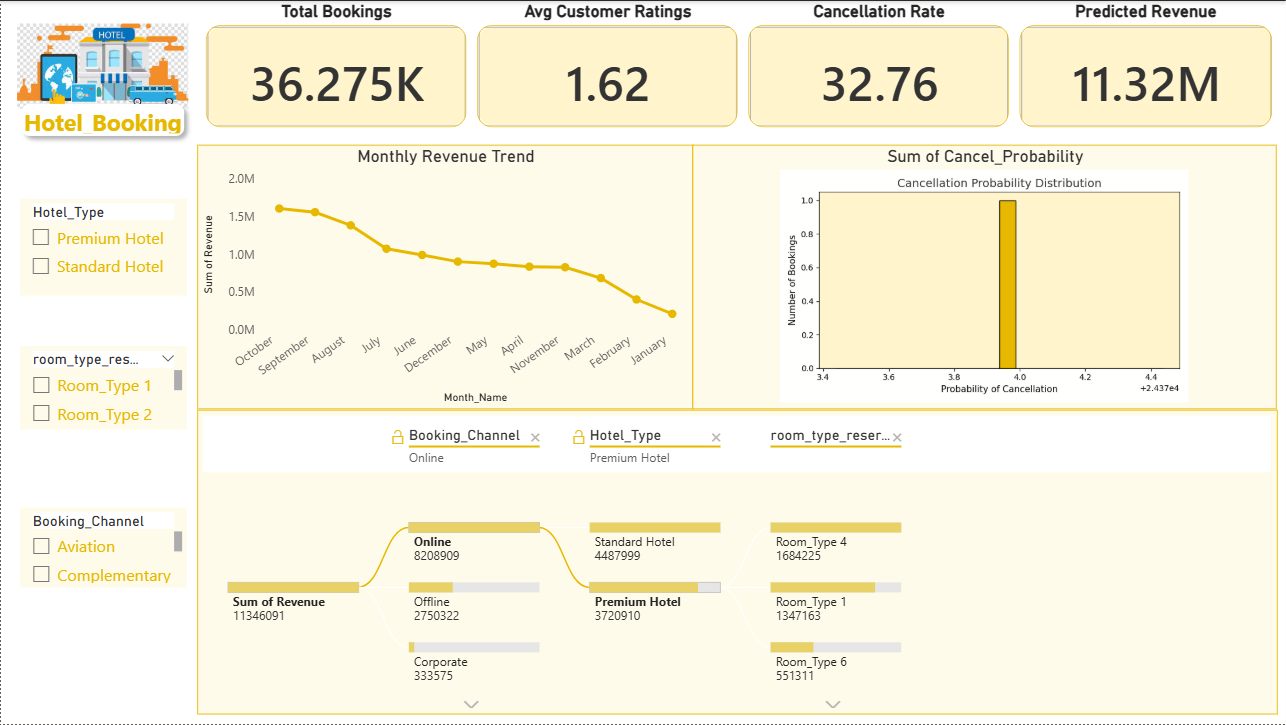

The dashboard page shown, as its layout file describes it:
{"tool":"powerbi","page":{"name":"Booking_Dashboard","canvas":[1280,720],"ordinal":0},"visuals":[{"type":"cardVisual","title":"Total Bookings","fields":{"Data":["CountNonNull(hotel_predictions (2).Booking_ID)"]},"box":[199,0,269.9,130.6],"z":0},{"type":"cardVisual","title":"Avg Customer Ratings","fields":{"Data":["Avg(hotel_predictions (2).Customer_Ratings)"]},"box":[469,0,269.9,130.6],"z":1000},{"type":"cardVisual","title":"Cancellation Rate","fields":{"Data":["cancellation_rate.Cancellation Rate"]},"box":[738.9,0,269.9,130.6],"z":2000},{"type":"cardVisual","title":"Predicted Revenue","fields":{"Data":["Sum(hotel_predictions (2).Predicted_Revenue)"]},"box":[1008.9,0,261.2,130.6],"z":3000},{"type":"slicer","fields":{"Values":["hotel_predictions (2).Hotel_Type"]},"box":[18.3,196.7,166.7,96.7],"z":4000},{"type":"slicer","fields":{"Values":["hotel_predictions (2).room_type_reserved"]},"box":[18.3,343.3,166.7,83.3],"z":5000},{"type":"slicer","fields":{"Values":["hotel_predictions (2).Booking_Channel"]},"box":[18.3,503.3,166.7,80],"z":6000},{"type":"lineChart","title":"Monthly Revenue Trend","fields":{"Category":["hotel_predictions (2).Month_Name"],"Y":["Sum(hotel_predictions (2).Revenue)"]},"box":[195,143.3,493.3,263.3],"z":7000},{"type":"pythonVisual","fields":{"Values":["Sum(hotel_predictions (2).Cancel_Probability)"]},"box":[688.3,143.3,581.7,263.3],"z":8000},{"type":"decompositionTreeVisual","fields":{"Analyze":["Sum(hotel_predictions (2).Revenue)"],"ExplainBy":["hotel_predictions (2).Booking_Channel","hotel_predictions (2).Hotel_Type","hotel_predictions (2).room_type_reserved"]},"box":[195,406.7,1075,303.3],"z":9000},{"type":"image","box":[11.7,0,180,130],"z":10000},{"type":"shape","box":[11.7,93.3,180,50],"z":11000}]}

Visuals, with their boxes in screenshot pixels (x1, y1, x2, y2), scaled from the page's 1280x720 canvas onto the 1286x725 screenshot:
"Total Bookings" cardVisual: (200, 0, 471, 132)
"Avg Customer Ratings" cardVisual: (471, 0, 742, 132)
"Cancellation Rate" cardVisual: (742, 0, 1014, 132)
"Predicted Revenue" cardVisual: (1014, 0, 1276, 132)
slicer - hotel_predictions (2).Hotel_Type: (18, 198, 186, 295)
slicer - hotel_predictions (2).room_type_reserved: (18, 346, 186, 430)
slicer - hotel_predictions (2).Booking_Channel: (18, 507, 186, 587)
"Monthly Revenue Trend" lineChart: (196, 144, 692, 409)
pythonVisual - Sum(hotel_predictions (2).Cancel_Probability): (692, 144, 1276, 409)
decompositionTreeVisual - Sum(hotel_predictions (2).Revenue) x hotel_predictions (2).Booking_Channel: (196, 410, 1276, 715)
image: (12, 0, 193, 131)
shape: (12, 94, 193, 144)
